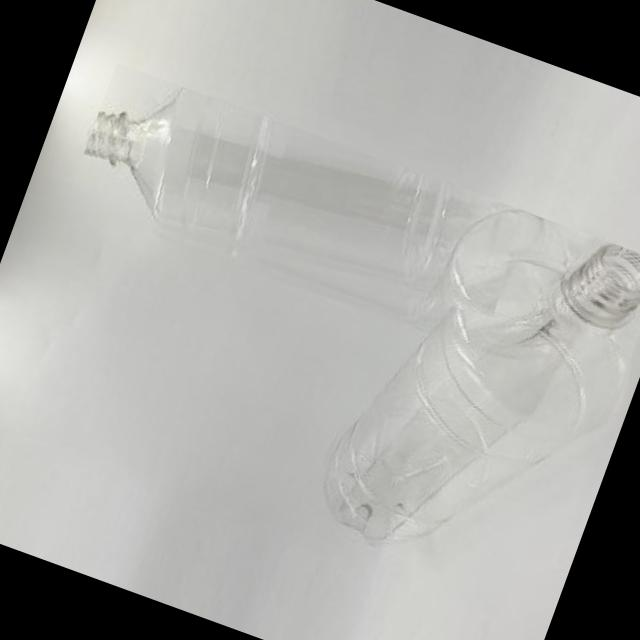plastic bottle: (299, 174, 640, 606), (64, 62, 532, 359)
